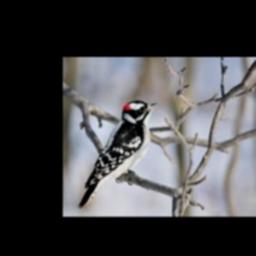Woodpecker: (78, 101, 159, 209)
